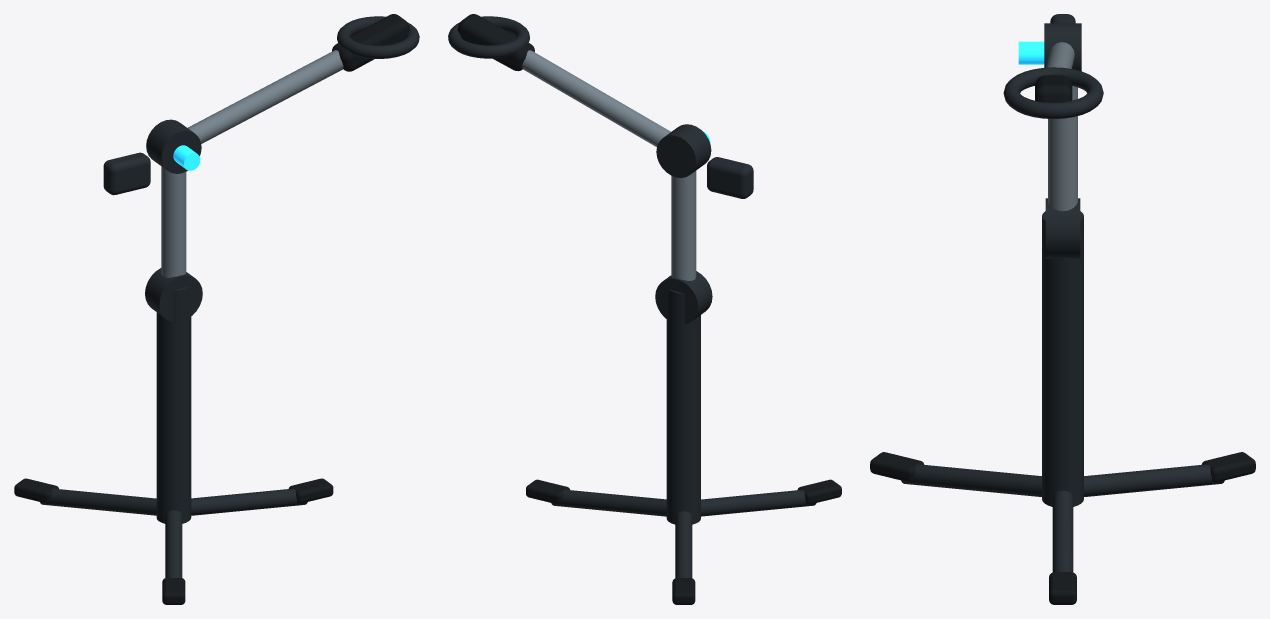
File: microphone-stand.glb
The picture shows the model from 3 angles, left to right: view 1: azimuth 30°, elevation 25°; view 2: azimuth 150°, elevation 25°; view 3: azimuth 270°, elevation 25°; orthographic projection. The views are drawn at different scales.
Visible parts, largest first — view 1: Professional boom microphone stand, Telescoping mast, Upper mast, Tripod foot (×3), Boom pivot, Height clutch, Microphone clip, Counterweight; view 2: Professional boom microphone stand, Telescoping mast, Upper mast, Boom pivot, Tripod foot (×3), Height clutch, Microphone clip, Counterweight; view 3: Professional boom microphone stand, Telescoping mast, Tripod foot (×3), Upper mast, Height clutch, Boom pivot, Microphone clip, Boom lock.
Boxes of the visible parts, x1,y1,x2,y2 form: Professional boom microphone stand: (40, 16, 419, 577); Telescoping mast: (156, 286, 191, 523); Upper mast: (161, 166, 186, 277); Tripod foot (×3): (14, 478, 333, 604); Boom pivot: (146, 119, 201, 173); Height clutch: (145, 268, 202, 321); Microphone clip: (332, 14, 409, 71); Counterweight: (103, 152, 150, 195); Professional boom microphone stand: (448, 16, 816, 578); Telescoping mast: (666, 289, 700, 524); Upper mast: (671, 171, 696, 280); Boom pivot: (656, 124, 711, 177); Tripod foot (×3): (526, 479, 841, 604); Height clutch: (655, 271, 712, 324); Microphone clip: (457, 14, 534, 71); Counterweight: (707, 157, 753, 198); Professional boom microphone stand: (901, 42, 1224, 572); Telescoping mast: (1042, 211, 1083, 506); Tripod foot (×3): (870, 452, 1255, 604); Upper mast: (1048, 86, 1077, 211); Height clutch: (1045, 198, 1080, 258); Boom pivot: (1044, 23, 1081, 71); Microphone clip: (1035, 75, 1072, 102); Boom lock: (1018, 41, 1044, 64).
Bounding box in the file's own units: 1.92 × 2.67 × 1.65.
